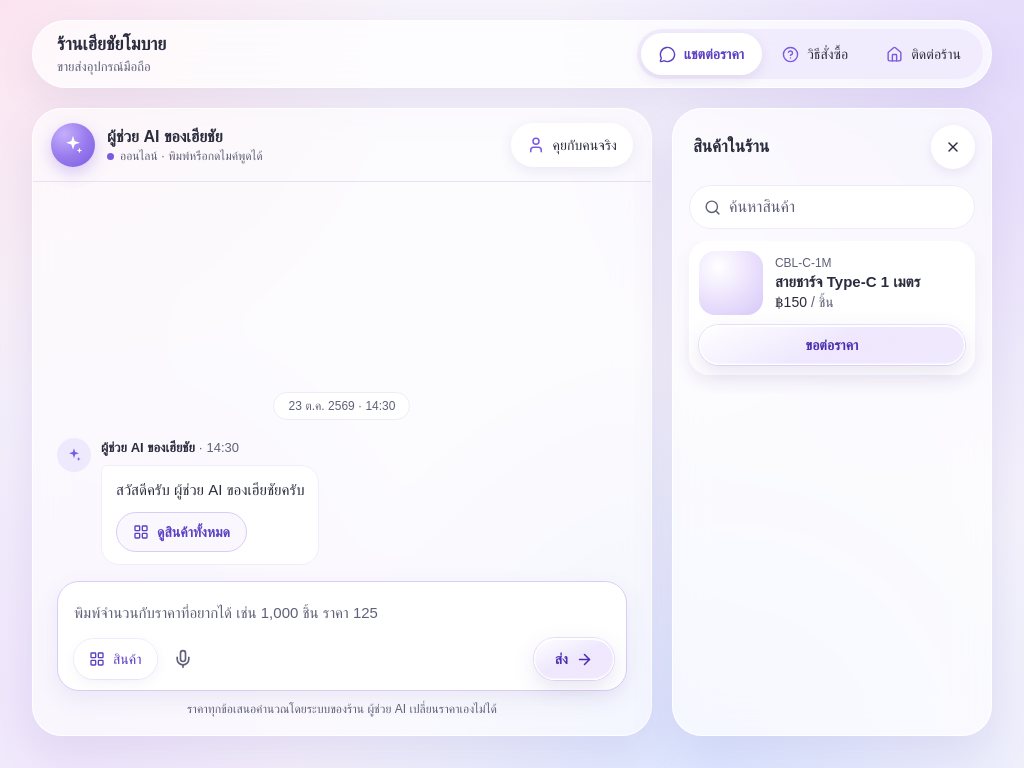
Scenario: ChatScreen — แชตจริง (ผ่าน API) › ไมค์ (เฟส 6) › แปลงเสียงไม่ได้ยินคำพูด → บอกให้พูดใหม่
Click the button named "พูดด้วยเสียง" at (182, 659), box x1=162 y1=639 x2=202 y2=679
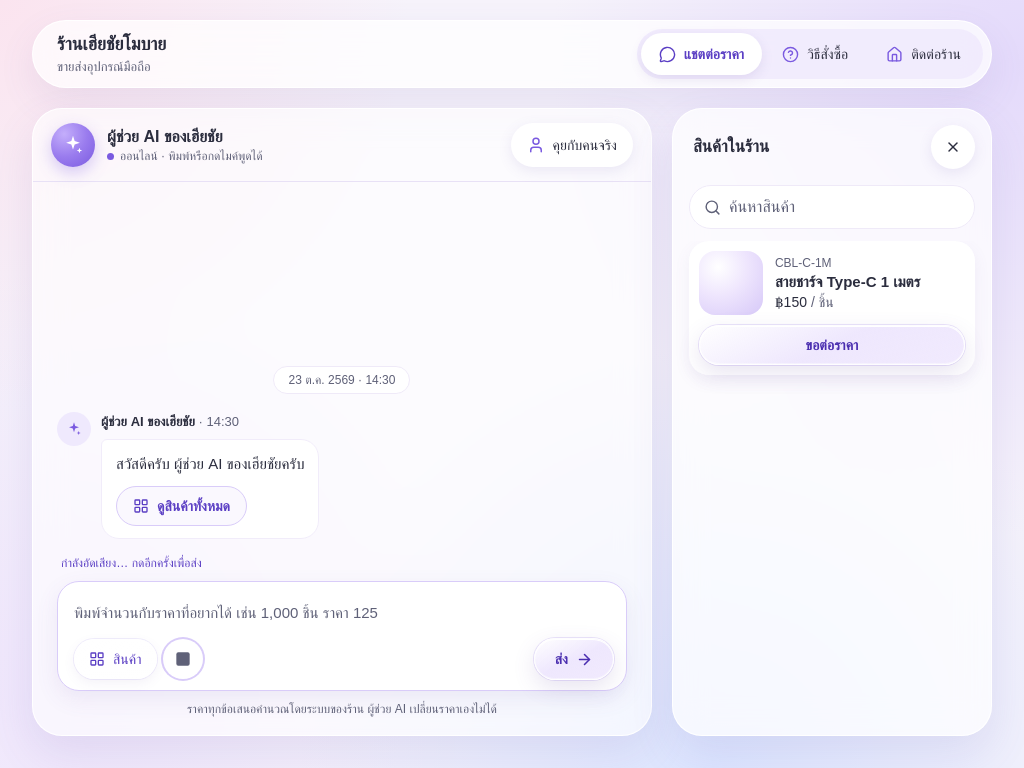
Click the button named "หยุดและส่งเสียง" at (182, 659), box x1=162 y1=639 x2=202 y2=679
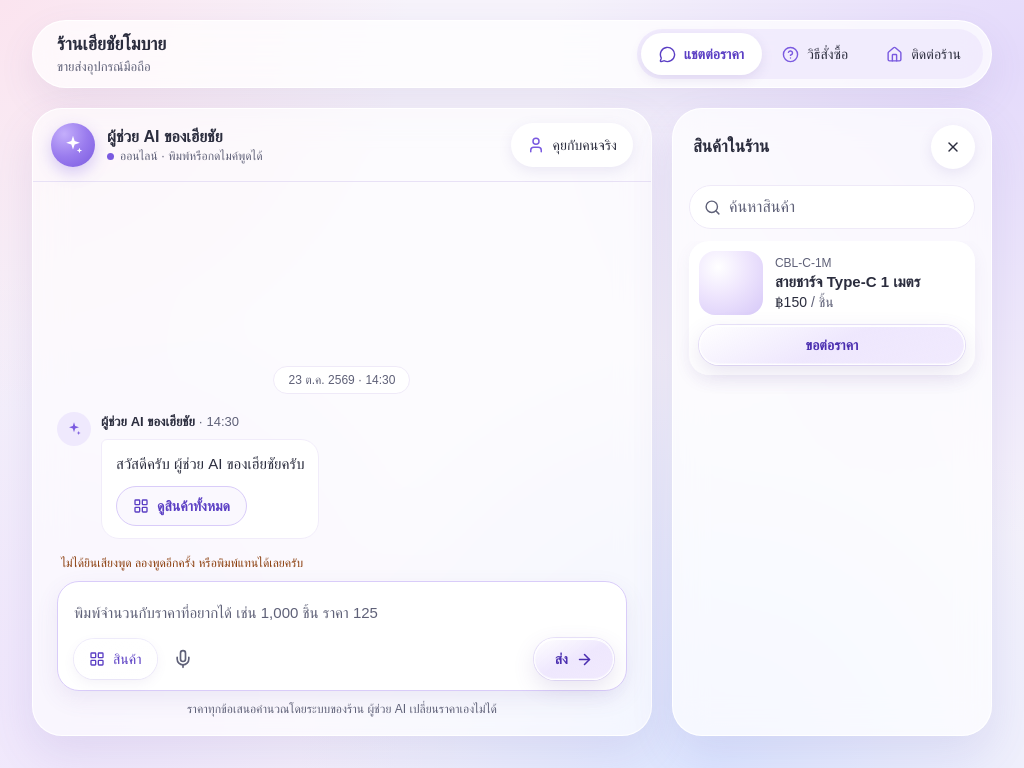
Now the text "ไม่ได้ยินเสียงพูด ลองพูดอีกครั้ง หรือพิมพ์แทนได้เลยครับ" is shown, box x1=61 y1=556 x2=303 y2=570
